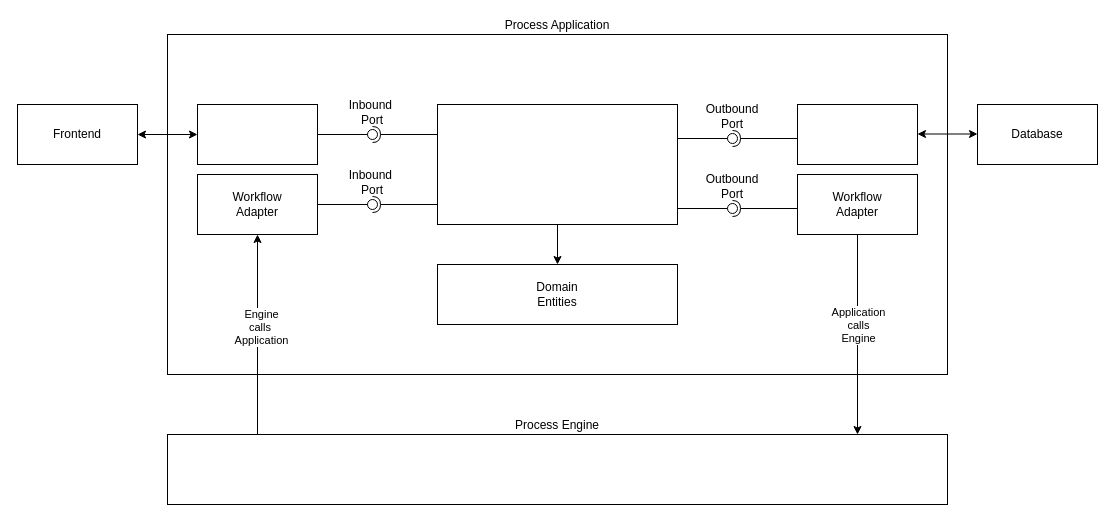
Image size: 1115x522. Some labels were removed from this diagram. Each missing label, with the centre of its shape:
"Persistence Adapter" belongs at (857,134).
"REST Adapter" belongs at (257,134).
"U se case implementation" belongs at (557,164).
